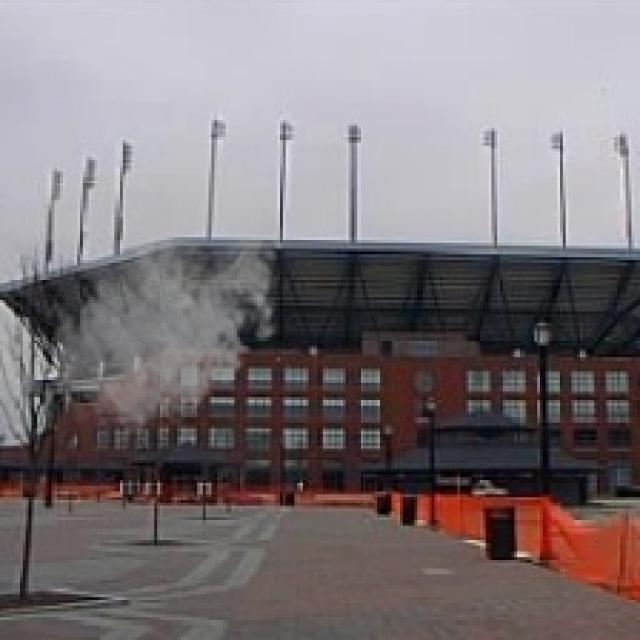smoke: (43, 174, 291, 443)
